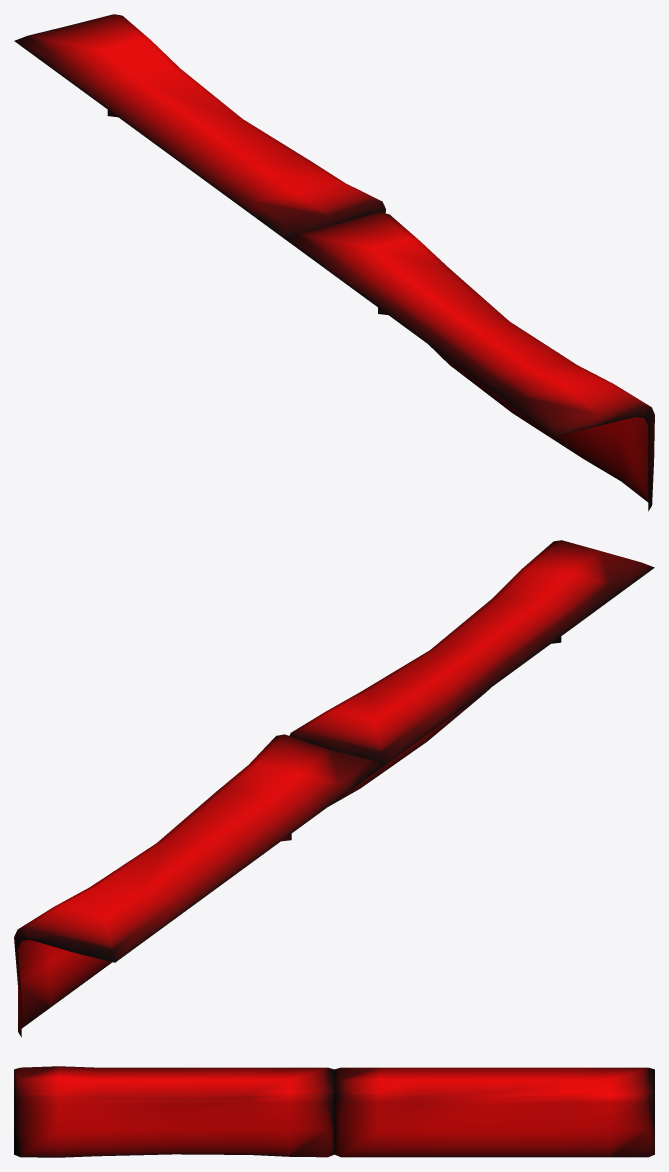
Rendered from curb_2_a.fbx.
3 renders of one model, top to bottom at view 1: azimuth 30°, elevation 25°; view 2: azimuth 150°, elevation 25°; view 3: azimuth 270°, elevation 25°, orthographic. The views are drawn at different scales.
Parts seen in each view (by area): view 1: curb_2_a; view 2: curb_2_a; view 3: curb_2_a.
Part boxes in pixels (x1,y1,x2,y2): curb_2_a: (14,14,654,511); curb_2_a: (14,540,654,1037); curb_2_a: (14,1066,654,1157).
Bounding box in the file's own units: 0.2291 × 0.2239 × 2.
